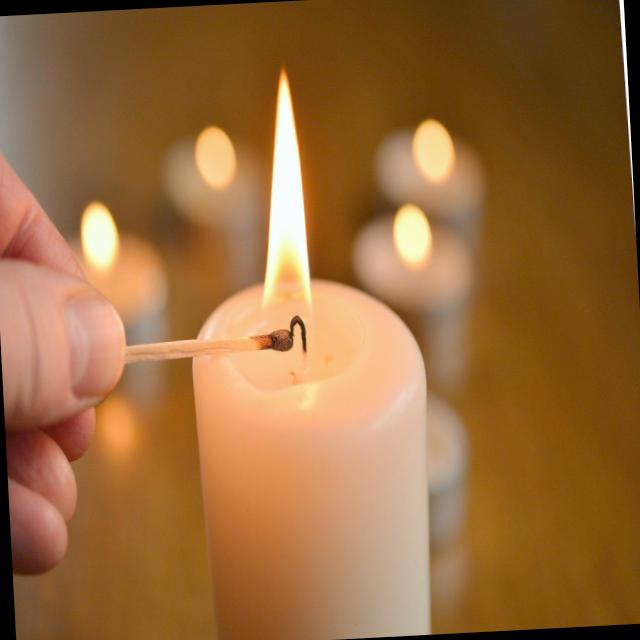Fire_Save: (175, 59, 440, 640)
